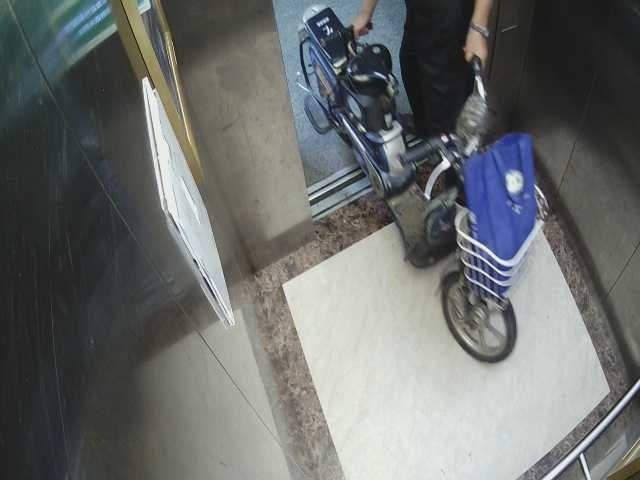emotor: (292, 6, 532, 362)
